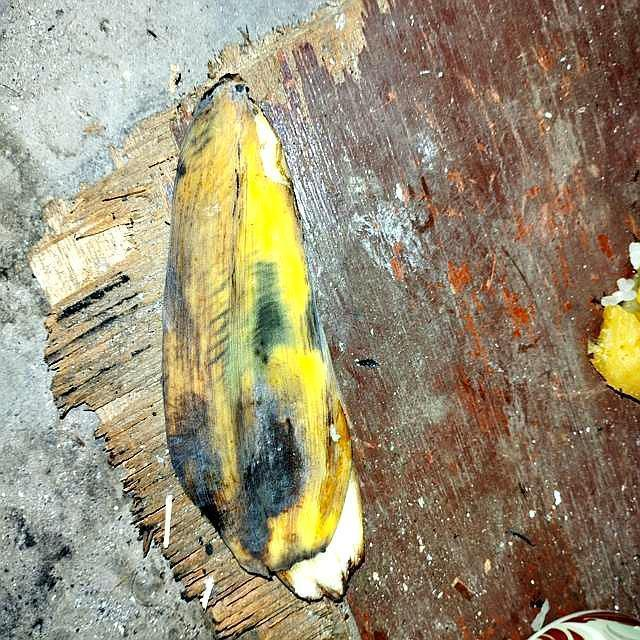Biodegradable: (160, 77, 366, 599)
